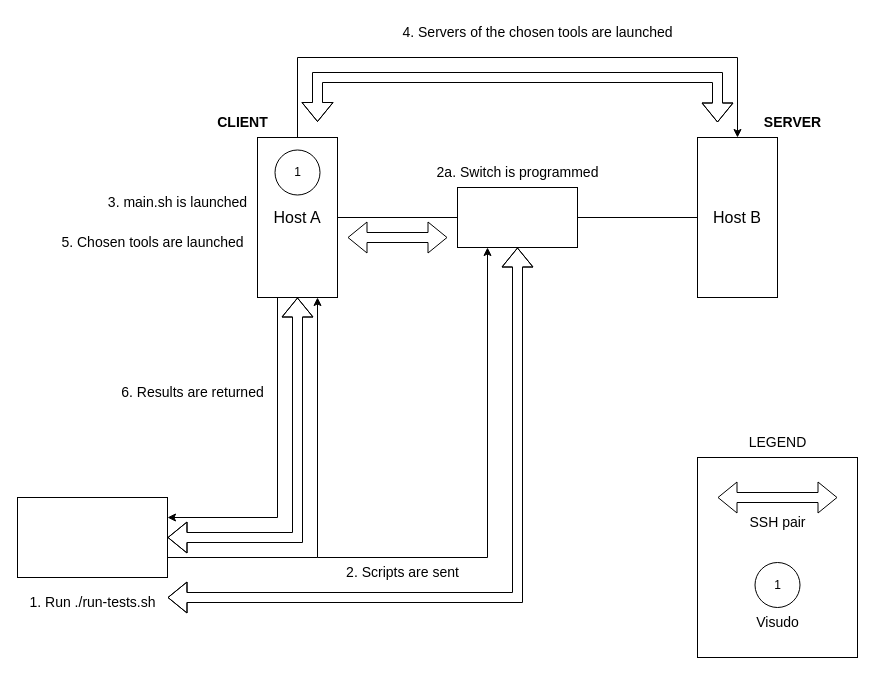
The diagram is 875 pixels wide and 675 high, and some of its shapes have lost their labels. Each missing label, with the centre of its shape:
"FPGA-based Switch" belongs at (517,217).
"Local Workstation" belongs at (92,537).
